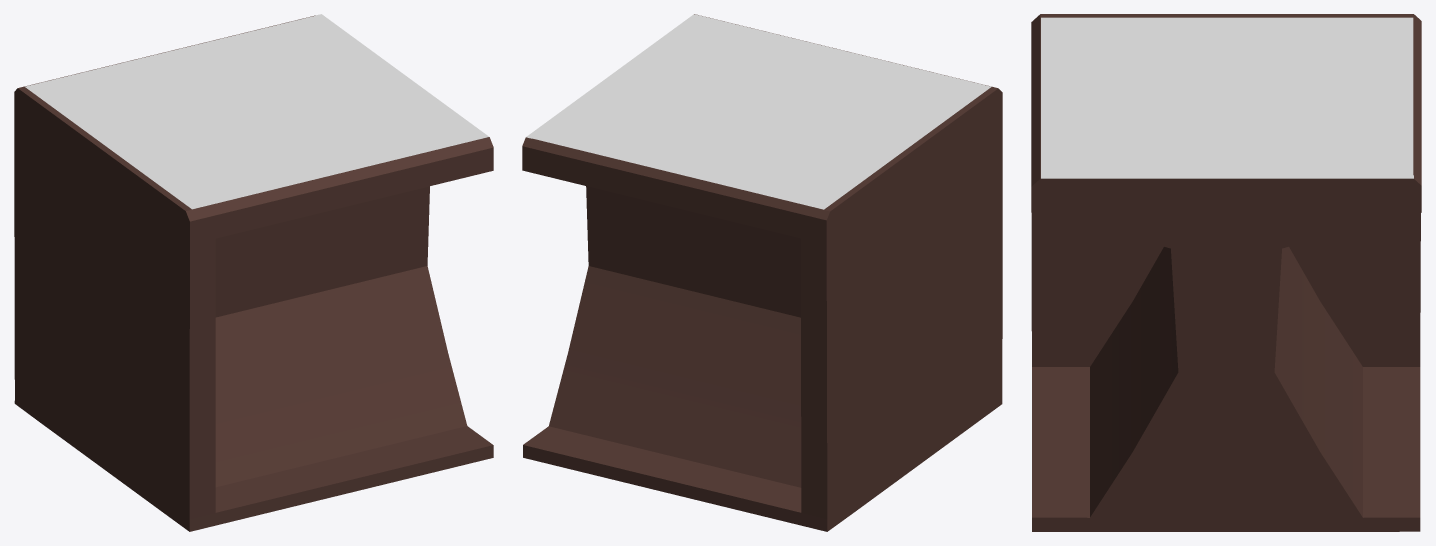
File: EndBench.fbx
3 renders of one model, left to right at view 1: azimuth 30°, elevation 25°; view 2: azimuth 150°, elevation 25°; view 3: azimuth 270°, elevation 25°, orthographic. The views are drawn at different scales.
Parts seen in each view (by area): view 1: EndBench; view 2: EndBench; view 3: EndBench.
Part boxes in pixels (x1=…): EndBench: x1=14, y1=14, x2=493, y2=531; EndBench: x1=522, y1=14, x2=1002, y2=531; EndBench: x1=1031, y1=14, x2=1421, y2=531.
Size of the model in its own units: 200 by 200 by 200.
